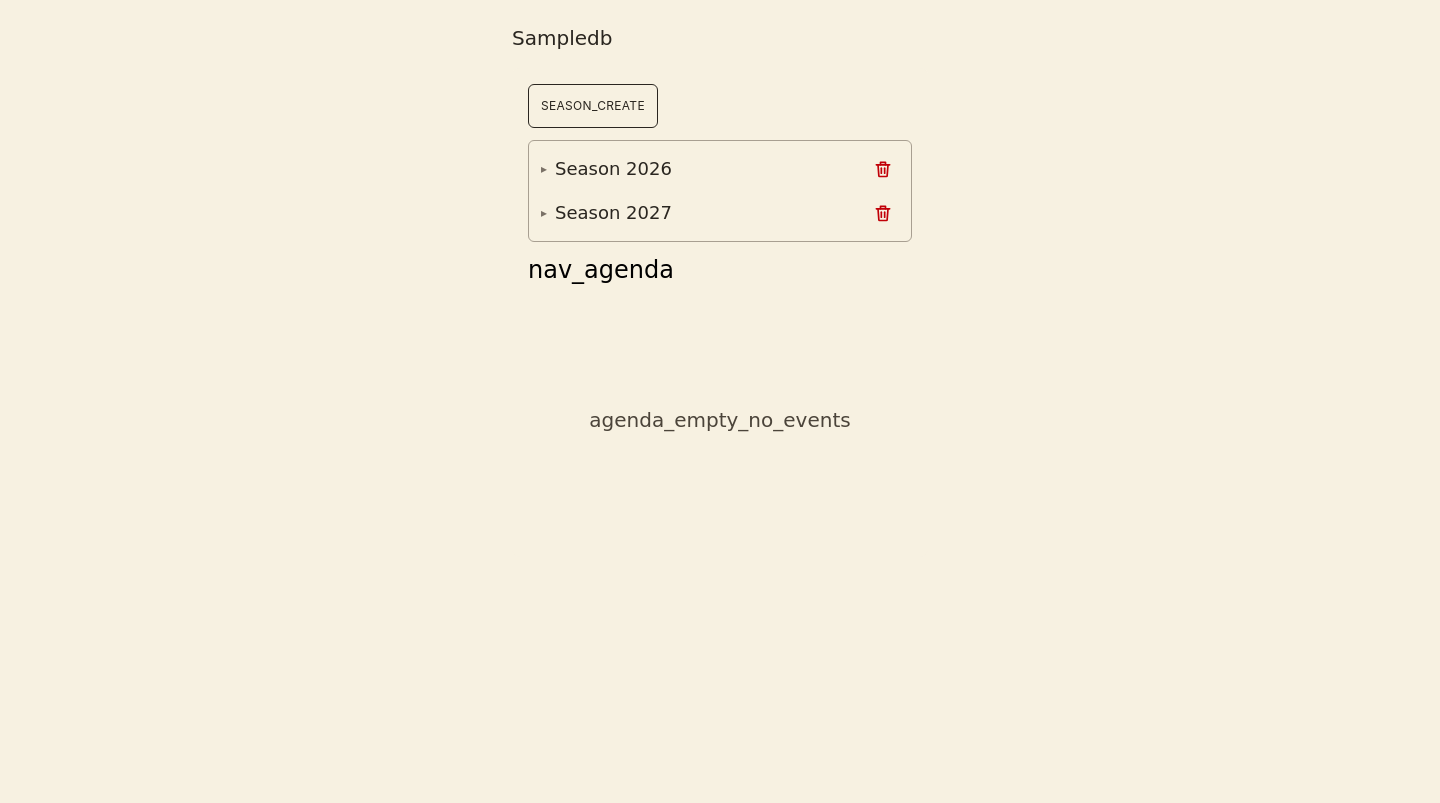
season card #277 — switching the managed season is a context switch › A open → click B’s entry: the panel now holds B’s fields and B’s series; NOTHING of A survives — fields, rows, chips (criterion 3)
What coordinates should you click on to do the following:
click the button with test id "season-card-expand"
I would click on:
 (694, 169)
Its box is [535,147,853,191].
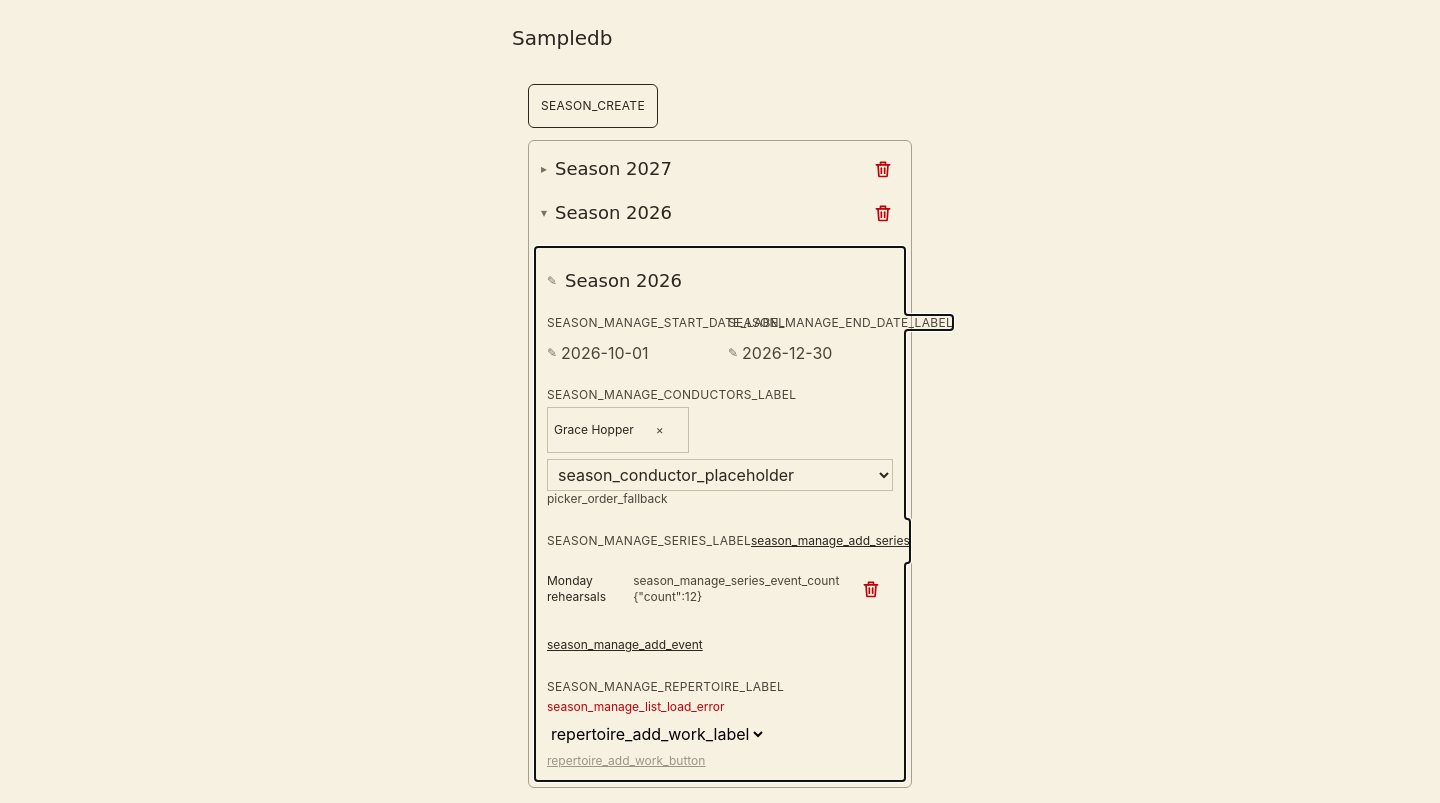
Now the 1st text "Season 2026" is shown, box [555,199,672,227]
What coordinates should you click on to do the following:
click the button with test id "season-card-expand"
I would click on:
 (694, 169)
Its box is [535,147,853,191].
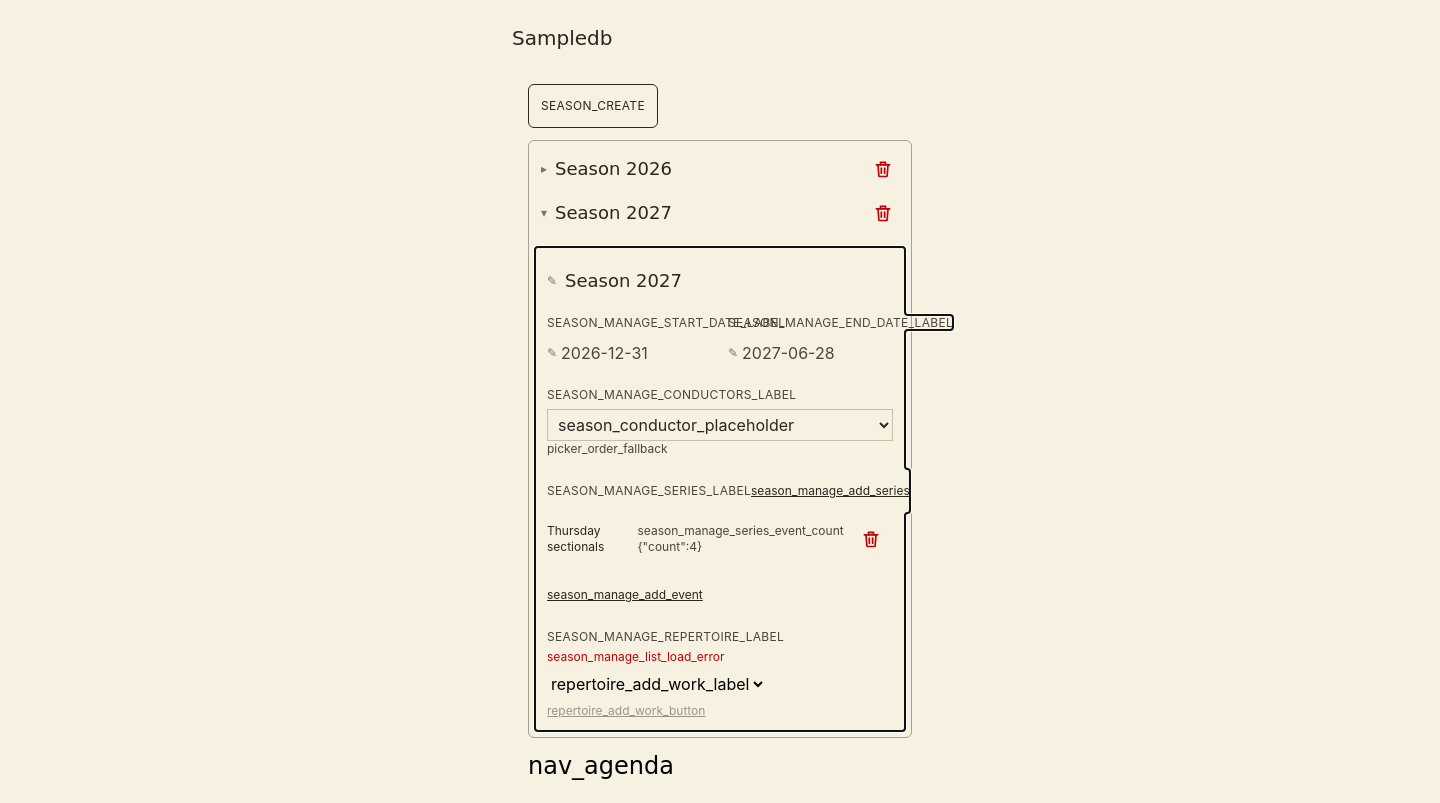
Now the 1st text "Season 2027" is shown, box [555,199,672,227]
Now the 2nd text "Season 2027" is shown, box [565,267,682,295]
